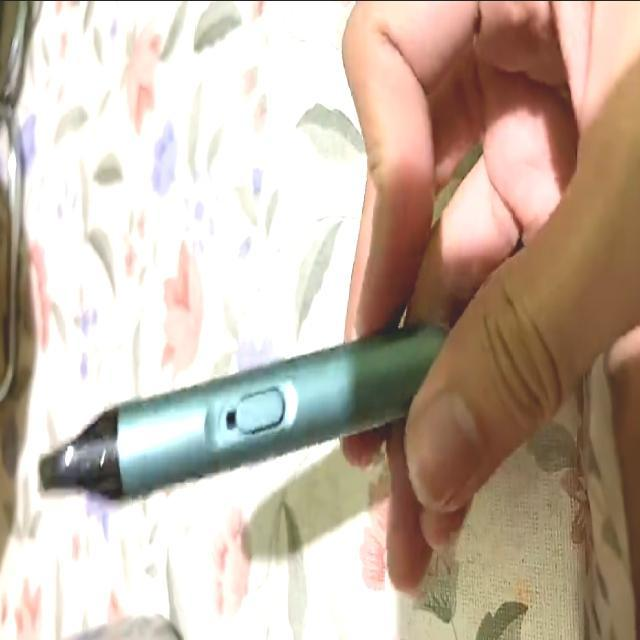Hazard: (39, 316, 453, 506)
